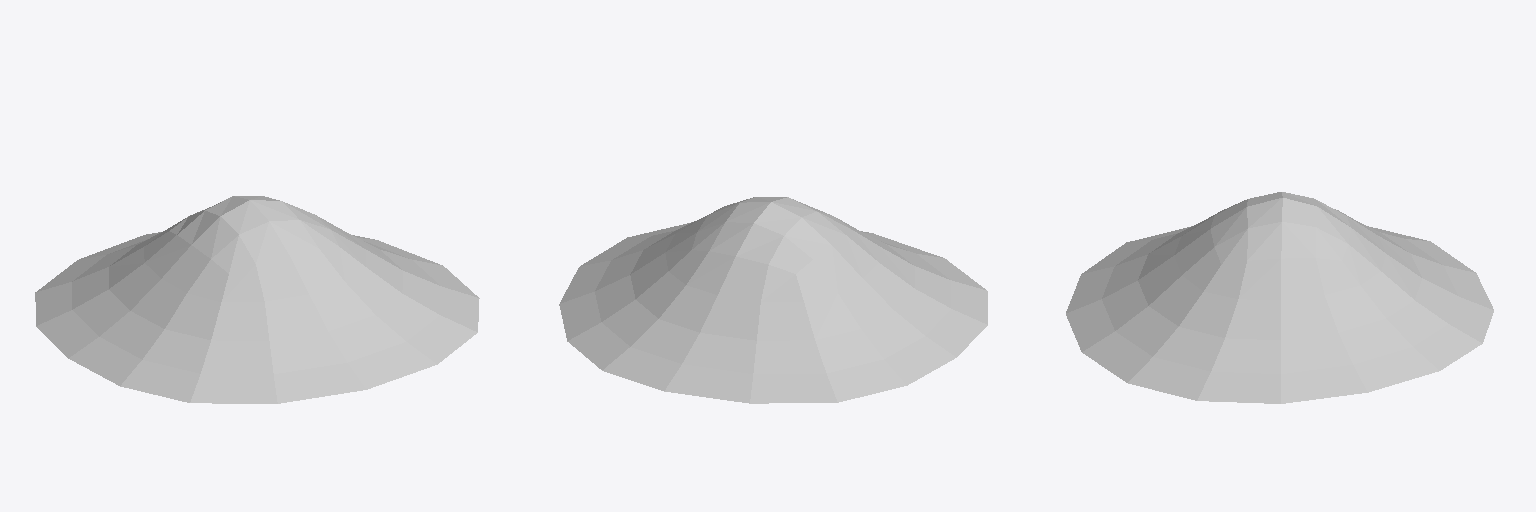
File: gold_object.obj
3 renders of one model, left to right at view 1: azimuth 30°, elevation 25°; view 2: azimuth 150°, elevation 25°; view 3: azimuth 270°, elevation 25°, orthographic.
Visible parts, largest first — view 1: gold_pile; view 2: gold_pile; view 3: gold_pile.
Boxes of the visible parts, <box> form: gold_pile: <box>35,196,479,403</box>; gold_pile: <box>559,197,987,403</box>; gold_pile: <box>1066,192,1493,403</box>.
Bounding box in the file's own units: 5.64 × 1.61 × 5.57.